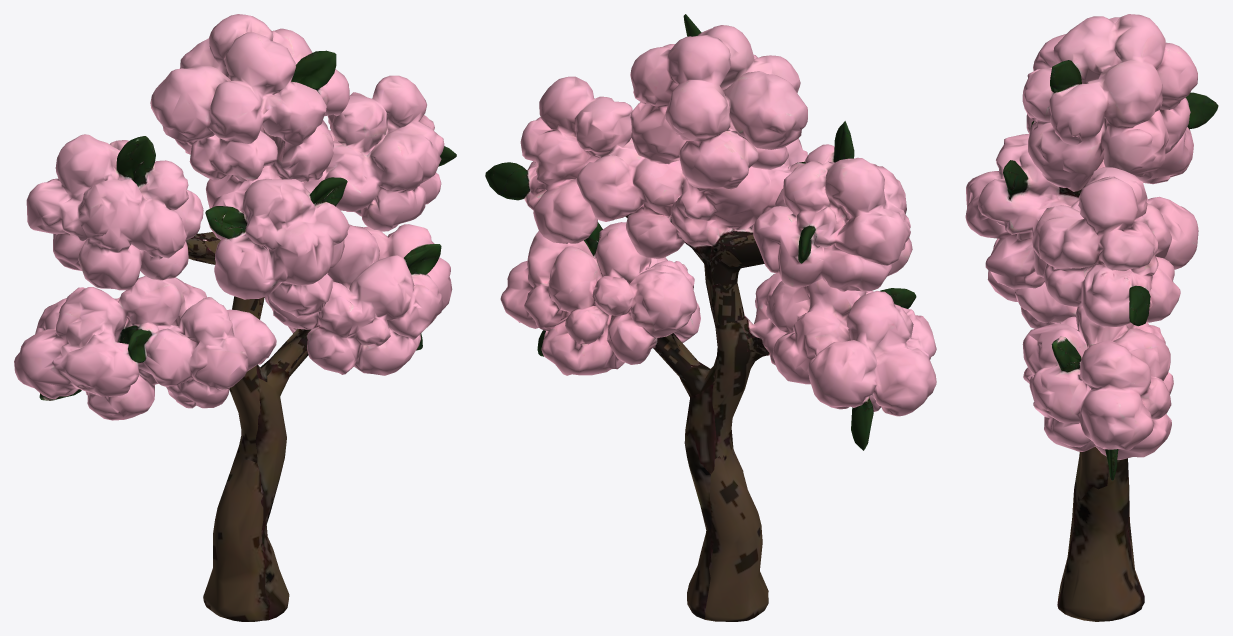
Rendered from sakura-3.glb.
The picture shows the model from 3 angles, left to right: view 1: azimuth 30°, elevation 25°; view 2: azimuth 150°, elevation 25°; view 3: azimuth 270°, elevation 25°; orthographic projection. The views are drawn at different scales.
Bounding box in the file's own units: 1.52 × 1.9 × 0.7373.
Materials: 1 (1 with a texture image).
